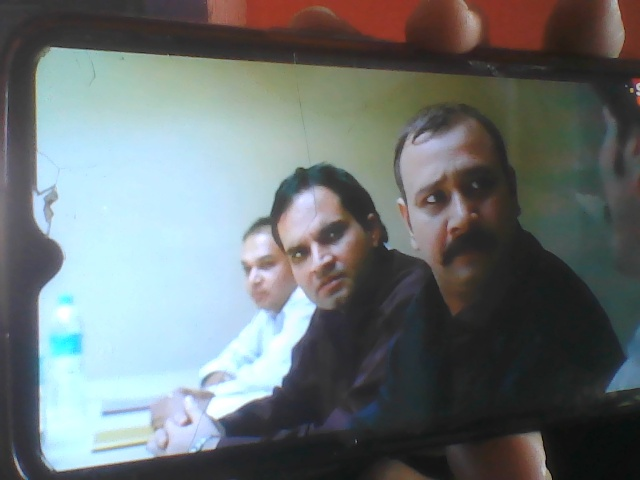fake: (397, 97, 536, 294), (263, 156, 387, 332)
